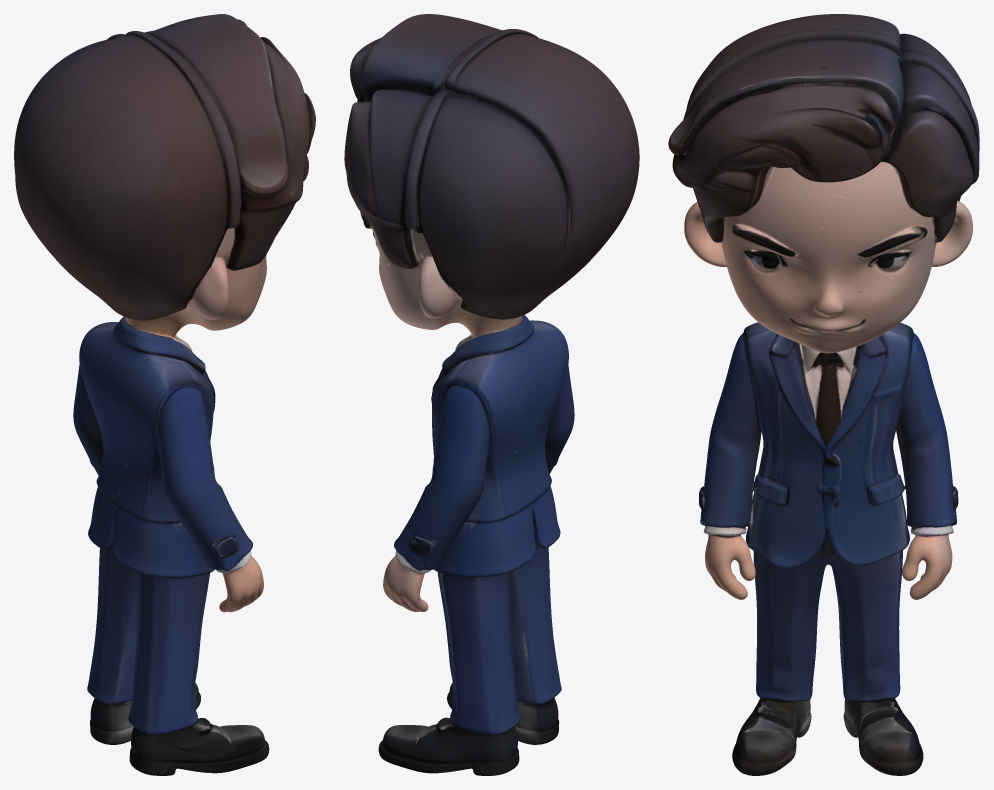
Rendered from businessman+3d+model (3).glb.
3 views of the same model, side by side, from view 1: azimuth 30°, elevation 25°; view 2: azimuth 150°, elevation 25°; view 3: azimuth 270°, elevation 25° (orthographic). The views are drawn at different scales.
Parts seen in each view (by area): view 1: tripo_node_3bf79b48-14e6-451d-b640-2b3d0151df3b; view 2: tripo_node_3bf79b48-14e6-451d-b640-2b3d0151df3b; view 3: tripo_node_3bf79b48-14e6-451d-b640-2b3d0151df3b.
Boxes of the visible parts, x1,y1,x2,y2 form: tripo_node_3bf79b48-14e6-451d-b640-2b3d0151df3b: (14, 14, 315, 775); tripo_node_3bf79b48-14e6-451d-b640-2b3d0151df3b: (344, 14, 639, 775); tripo_node_3bf79b48-14e6-451d-b640-2b3d0151df3b: (668, 14, 979, 775).
Size of the model in its own units: 0.3689 by 1 by 0.3941.
1 material, 1 textured.
